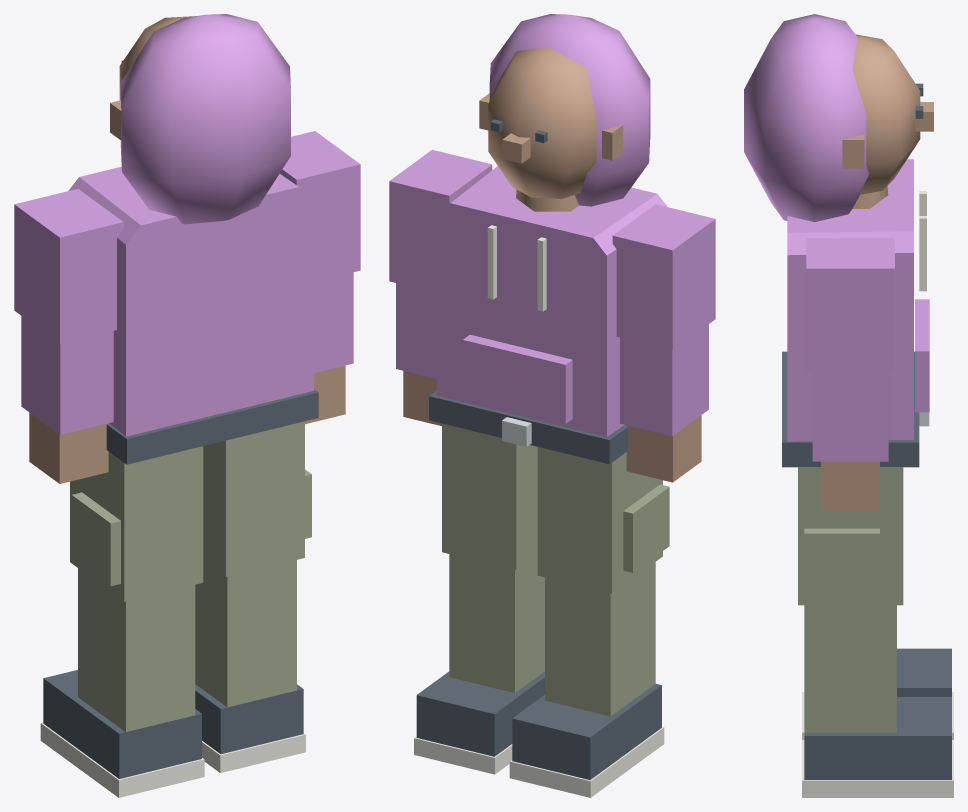
File: ped_street.glb
3 renders of one model, left to right at view 1: azimuth 30°, elevation 25°; view 2: azimuth 150°, elevation 25°; view 3: azimuth 270°, elevation 25°, orthographic. The views are drawn at different scales.
Parts seen in each view (by area): view 1: Torso_Mesh, Hood_Back, Lower_Leg (×2), Thigh (×2), Upper_Arm (×2), Shoe (×2), Sleeve (×2), Belt, Hand (×2), Sneaker_Sole (×2), Cargo_Pocket, Face; view 2: Torso_Mesh, Lower_Leg (×2), Thigh (×2), Upper_Arm (×2), Shoe (×2), Face, Hood_Back, Sleeve (×2), Hoodie_Pocket, Hand (×2), Belt, Sneaker_Sole (×2) (+6 smaller); view 3: Hood_Back, Torso_Mesh, Upper_Arm, Lower_Leg, Shoe (×2), Thigh, Face, Sleeve, Cargo_Pocket, Hand, Sneaker_Sole, Belt (+5 smaller).
Boxes of the visible parts, x1,y1,x2,y2 form: Torso_Mesh: (68,166,313,436); Hood_Back: (120,14,290,224); Lower_Leg (×2): (78,560,296,731); Thigh (×2): (70,421,304,601); Upper_Arm (×2): (14,131,360,343); Shoe (×2): (43,670,303,778); Sleeve (×2): (21,272,353,434); Belt: (106,389,318,464); Hand (×2): (29,365,345,483); Sneaker_Sole (×2): (40,722,305,797); Cargo_Pocket: (71,492,120,586); Face: (119,16,195,100); Torso_Mesh: (436,166,667,436); Lower_Leg (×2): (449,554,655,716); Thigh (×2): (442,423,662,593); Upper_Arm (×2): (389,149,715,350); Shoe (×2): (416,671,661,779); Face: (488,47,596,198); Hood_Back: (489,14,650,206); Sleeve (×2): (396,283,708,436); Hoodie_Pocket: (462,334,572,424); Hand (×2): (403,371,701,482); Belt: (429,390,628,464); Sneaker_Sole (×2): (414,727,664,797); Hood_Back: (744,14,868,222); Torso_Mesh: (787,159,913,441); Upper_Arm: (806,238,894,371); Lower_Leg: (804,605,896,732); Shoe (×2): (804,648,951,779); Thigh: (798,467,903,605); Face: (852,34,920,194); Sleeve: (812,371,888,461); Cargo_Pocket: (804,528,879,594); Hand: (821,461,879,511); Sneaker_Sole: (802,740,953,797); Belt: (782,351,919,467).
Size of the model in its own units: 0.8 by 1.92 by 0.4976.
